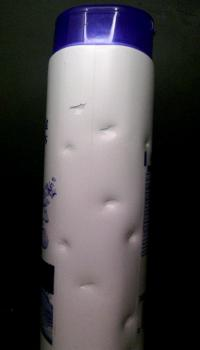dent_unacceptable: (72, 277, 110, 303), (118, 308, 145, 339), (119, 226, 147, 249), (64, 97, 94, 118), (51, 234, 78, 256), (94, 123, 128, 140), (100, 195, 128, 212), (57, 140, 82, 158), (138, 131, 156, 153)
